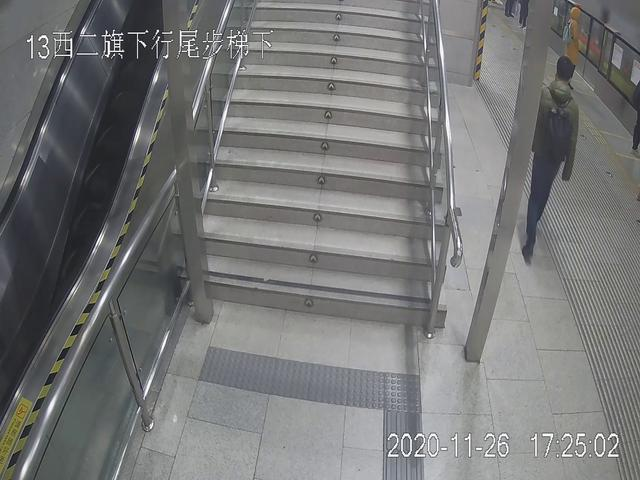person: (520, 54, 579, 263)
